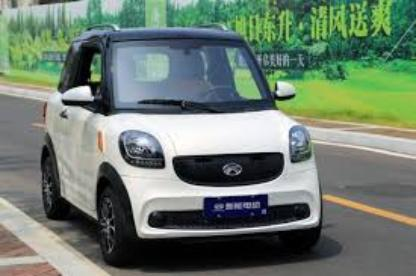car: (34, 19, 328, 266)
